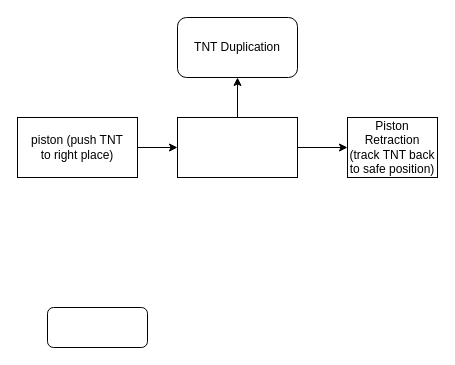
Image size: 455x365. Some labels were removed from this diagram. Here are the shapes that lost their labels. From the top down, the centre of each, then its label:
At (237,147): "BUD state TNT Move + Ignite + block update".
At (97,327): "stack rules".
